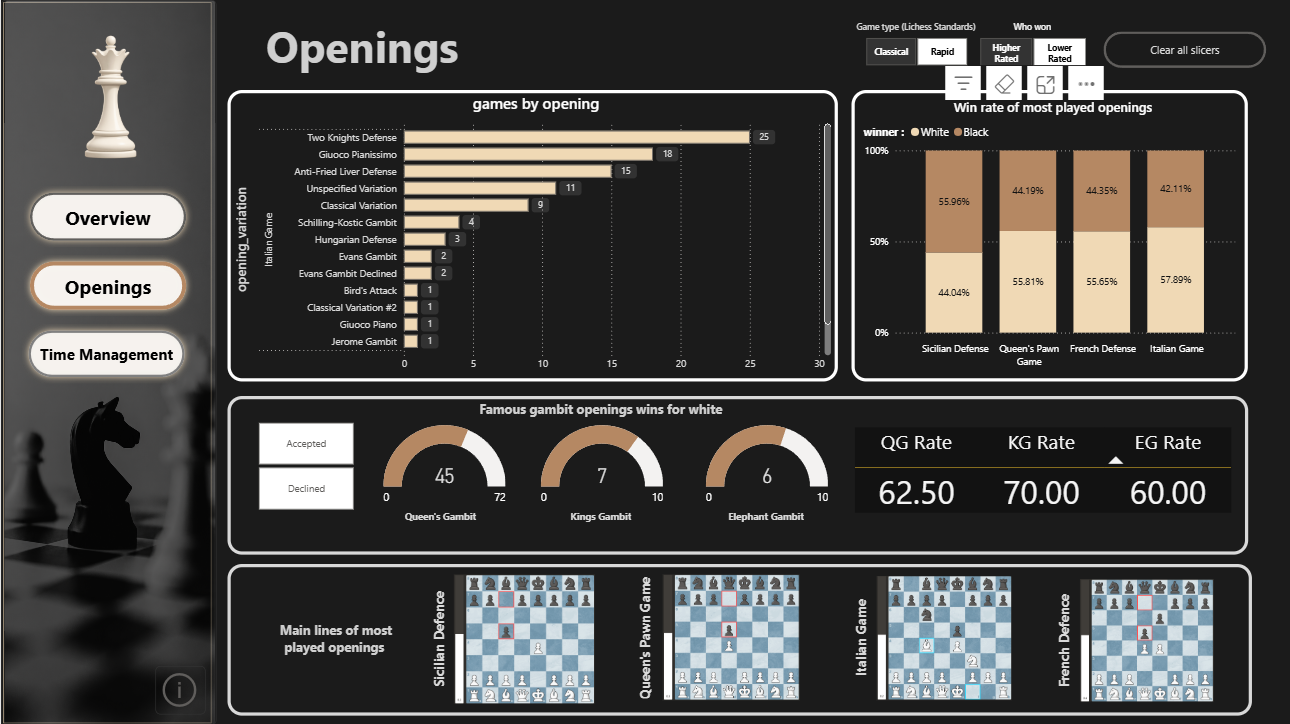

This screenshot's page, from the dashboard's own definition file:
{"tool":"powerbi","page":{"name":"Openings","canvas":[1600,900],"ordinal":1},"visuals":[{"type":"shape","box":[279.6,487.3,1266.2,197.7],"z":0},{"type":"shape","box":[281.6,699,1270.1,187.7],"z":1000},{"type":"shape","box":[0,0,264.4,900],"z":2000},{"type":"clusteredBarChart","title":"games by opening","fields":{"Category":["chess_games.opening_shortname Hierarchy.opening_shortname","chess_games.opening_shortname Hierarchy.opening_variation"],"Y":["CountNonNull(chess_games.game_id)"]},"box":[281.6,111.8,756.9,361.5],"z":3000},{"type":"hundredPercentStackedColumnChart","title":"Win rate of most played openings","fields":{"Category":["chess_games.opening_shortname"],"Series":["chess_games.winner"],"Y":["CountNonNull(chess_games.winner)"]},"box":[1054.5,111.8,491.3,361.5],"z":4000},{"type":"slicer","title":"Game type (Lichess Standards)","fields":{"Values":["chess_games.game_type (Lichess standards)"]},"box":[1046,25.5,174.9,62],"z":5000},{"type":"slicer","title":"Who won","fields":{"Values":["chess_games.who won?"]},"box":[1188.2,25.5,180.4,54.7],"z":6000},{"type":"slicer","fields":{"Values":["chess_games.opening_response"]},"box":[293.6,517.2,167.4,121.8],"z":8000},{"type":"image","title":"Sicilian Defence","box":[501.3,713,293.6,159.8],"z":9000},{"type":"image","title":"French Defence","box":[1258.2,717,323.5,151.8],"z":10000},{"type":"image","title":"Italian Game","box":[1030.5,715,277.6,153.8],"z":11000},{"type":"image","box":[4,0,263.6,898.7],"z":12000},{"type":"actionButton","box":[28,229.7,209.7,75.9],"z":13000},{"type":"image","title":"Queen''s Pawn Game","box":[754.9,713,299.6,155.8],"z":14000},{"type":"actionButton","box":[26,401.4,209.7,73.9],"z":15000},{"type":"actionButton","box":[28,315.5,209.7,75.9],"z":16000},{"type":"actionButton","box":[175.7,822.8,61.9,59.9],"z":18000},{"type":"textbox","box":[325.5,764.9,179.7,57.9],"z":19000},{"type":"shape","box":[519.2,713,47.9,159.8],"z":20000},{"type":"gauge","title":"Queen''s gambit","fields":{"MaxValue":["chess_games.Queen's Gambit Games"],"Y":["chess_games.QG WINS"]},"box":[469,519.2,162,119.8],"z":21000},{"type":"shape","box":[1292.1,715,49.9,159.8],"z":22000},{"type":"shape","box":[1040.5,711,49.9,159.8],"z":23000},{"type":"gauge","title":"Elephant gambit","fields":{"Y":["chess_games.EG Wins"],"MaxValue":["chess_games.EG Games"]},"box":[868.5,519.2,162,119.8],"z":24000},{"type":"shape","box":[772.9,711,49.9,159.8],"z":25000},{"type":"gauge","title":"King''s gambit","fields":{"Y":["chess_games.KG Wins"],"MaxValue":["chess_games.KG Games"]},"box":[663.4,519.2,162,119.8],"z":26000},{"type":"actionButton","box":[1366.8,38.6,201.7,45.1],"z":27000},{"type":"textbox","box":[525.7,491.3,434.6,39.9],"z":28000},{"type":"textbox","box":[323.5,14,431.4,83.9],"z":29000},{"type":"shape","box":[460.9,613.1,167.4,51.9],"z":30000},{"type":"shape","box":[660.7,613.1,167.4,51.9],"z":31000},{"type":"tableEx","fields":{"Values":["chess_games.QG Rate","chess_games.KG Rate","chess_games.EG Rate"]},"box":[1052.5,525.2,479.3,139.8],"z":32000},{"type":"shape","box":[864.7,613.1,167.8,51.9],"z":33000},{"type":"image","box":[47.9,37.9,175.7,165.8],"z":34000}]}

Visuals, with their boxes in screenshot pixels (x1, y1, x2, y2), scaled from the page's 1600x900 canvas onto the 1290x724 screenshot:
shape: box=[225, 392, 1246, 551]
shape: box=[227, 562, 1251, 713]
shape: box=[0, 0, 213, 723]
"games by opening" clusteredBarChart: box=[227, 90, 837, 381]
"Win rate of most played openings" hundredPercentStackedColumnChart: box=[850, 90, 1246, 381]
"Game type (Lichess Standards)" slicer: box=[843, 21, 984, 70]
"Who won" slicer: box=[958, 21, 1103, 65]
slicer - chess_games.opening_response: box=[237, 416, 372, 514]
"Sicilian Defence" image: box=[404, 574, 641, 702]
"French Defence" image: box=[1014, 577, 1275, 699]
"Italian Game" image: box=[831, 575, 1055, 699]
image: box=[3, 0, 216, 723]
actionButton: box=[23, 185, 192, 246]
"Queen''s Pawn Game" image: box=[609, 574, 850, 699]
actionButton: box=[21, 323, 190, 382]
actionButton: box=[23, 254, 192, 315]
actionButton: box=[142, 662, 192, 710]
textbox: box=[262, 615, 407, 662]
shape: box=[419, 574, 457, 702]
"Queen''s gambit" gauge: box=[378, 418, 509, 514]
shape: box=[1042, 575, 1082, 704]
shape: box=[839, 572, 879, 701]
"Elephant gambit" gauge: box=[700, 418, 831, 514]
shape: box=[623, 572, 663, 701]
"King''s gambit" gauge: box=[535, 418, 665, 514]
actionButton: box=[1102, 31, 1265, 67]
textbox: box=[424, 395, 774, 427]
textbox: box=[261, 11, 609, 79]
shape: box=[372, 493, 507, 535]
shape: box=[533, 493, 668, 535]
tableEx - chess_games.QG Rate x chess_games.KG Rate: box=[849, 422, 1235, 535]
shape: box=[697, 493, 832, 535]
image: box=[39, 30, 180, 164]
